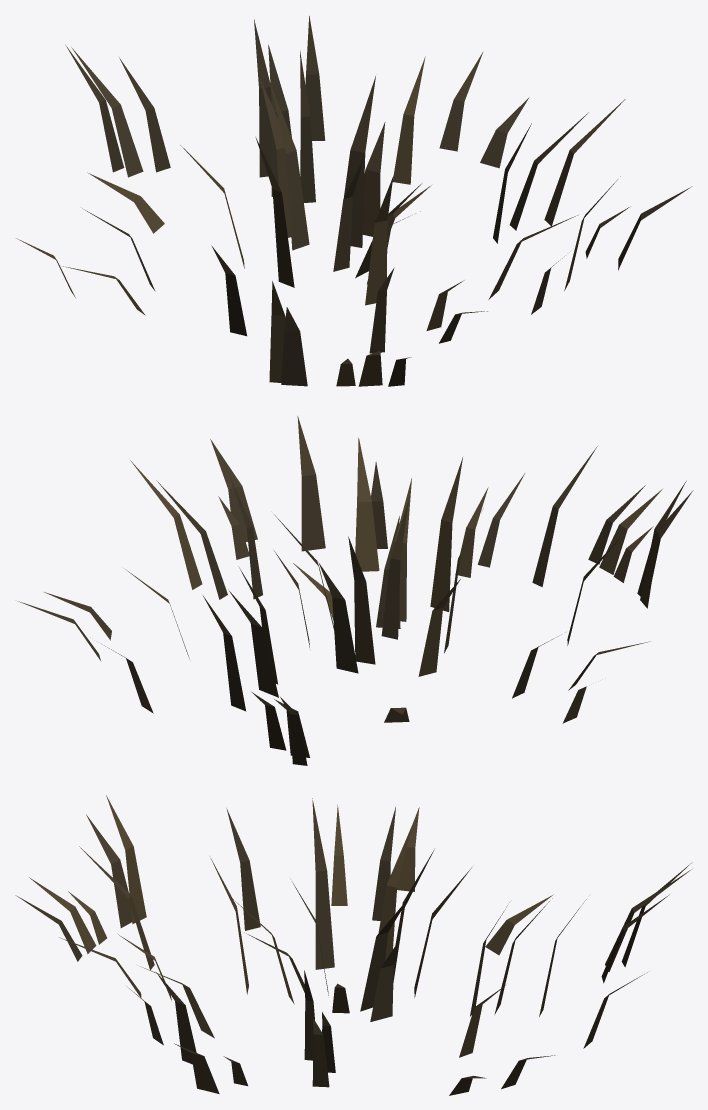
The picture shows the model from 3 angles, top to bottom: view 1: azimuth 30°, elevation 25°; view 2: azimuth 150°, elevation 25°; view 3: azimuth 270°, elevation 25°; orthographic projection. The views are drawn at different scales.
Parts seen in each view (by area): view 1: Dry bent blade; view 2: Dry bent blade; view 3: Dry bent blade.
Boxes of the visible parts, bbox=[...] form: Dry bent blade: bbox=[16, 16, 692, 386]; Dry bent blade: bbox=[17, 416, 693, 765]; Dry bent blade: bbox=[15, 795, 692, 1095].
Size of the model in its own units: 1.12 by 0.3148 by 1.26.
